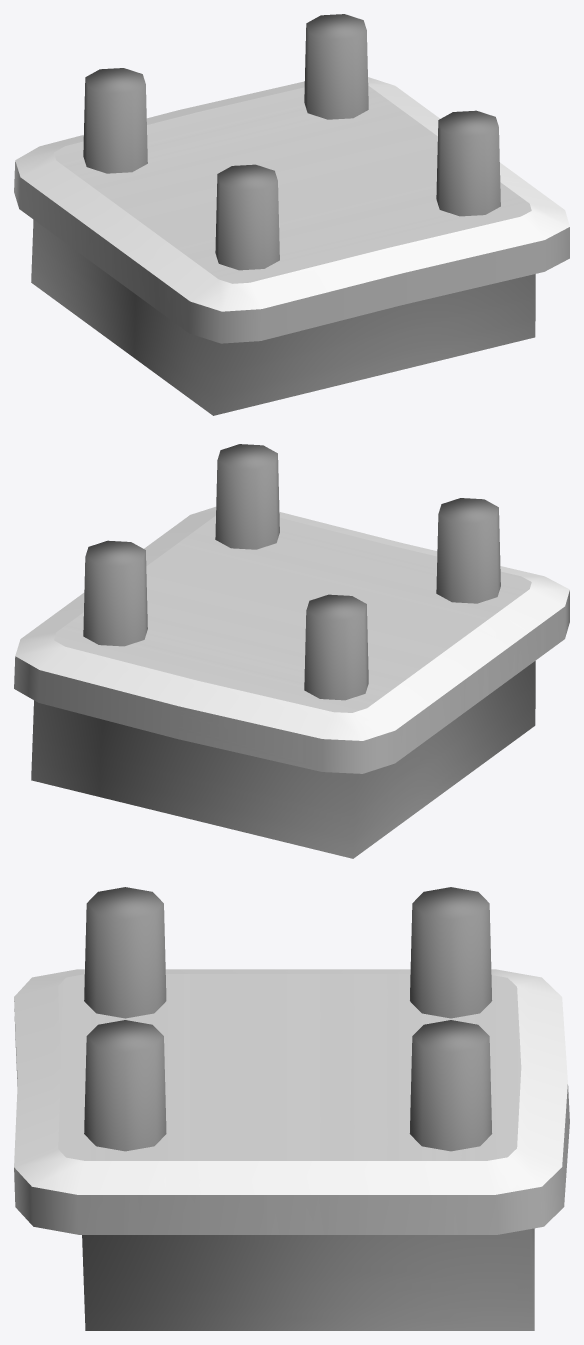
File: UnderSeat.fbx
3 views of the same model, one above another, from view 1: azimuth 30°, elevation 25°; view 2: azimuth 150°, elevation 25°; view 3: azimuth 270°, elevation 25° (orthographic). The views are drawn at different scales.
Parts seen in each view (by area): view 1: UnderSeat; view 2: UnderSeat; view 3: UnderSeat.
Boxes of the visible parts, bbox=[...] form: UnderSeat: bbox=[14, 14, 569, 415]; UnderSeat: bbox=[14, 444, 569, 858]; UnderSeat: bbox=[14, 887, 569, 1330].
Bounding box in the file's own units: 159 × 86.54 × 165.
